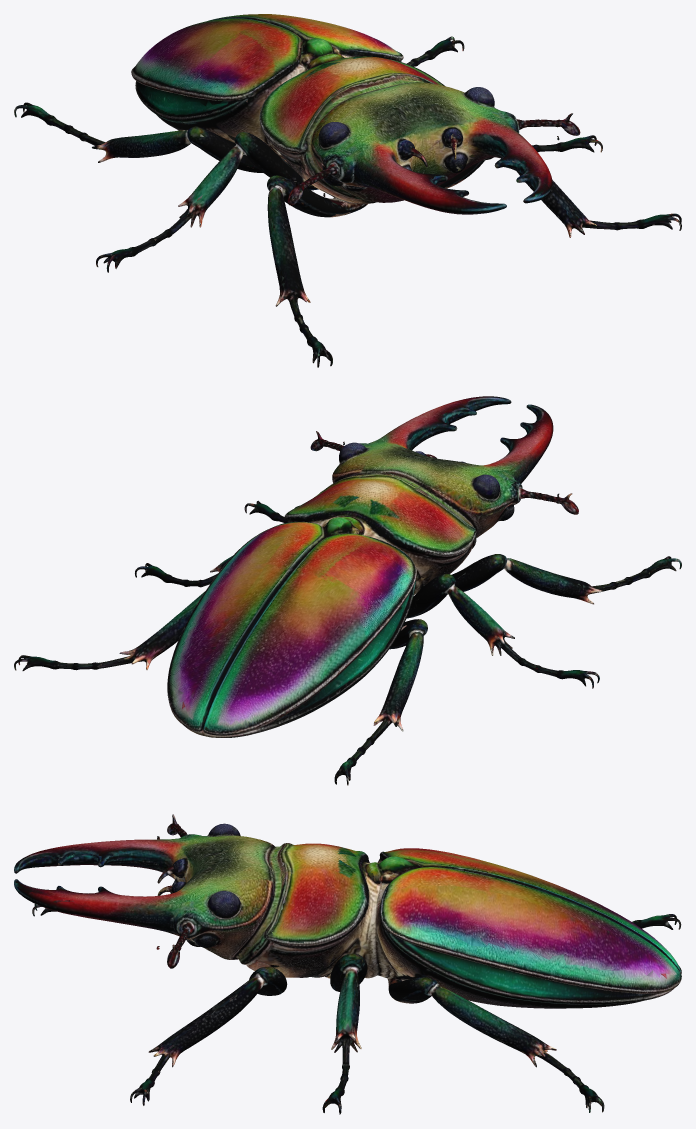
Rendered from stag.glb.
3 views of the same model, one above another, from view 1: azimuth 30°, elevation 25°; view 2: azimuth 150°, elevation 25°; view 3: azimuth 270°, elevation 25° (orthographic). The views are drawn at different scales.
Visible parts, largest first — view 1: stag; view 2: stag; view 3: stag.
Boxes of the visible parts, x1,y1,x2,y2 form: stag: (14,14,681,367); stag: (14,396,681,785); stag: (14,814,681,1114).
Bounding box in the file's own units: 0.8318 × 0.2404 × 1.
Materials: 1 (1 with a texture image).
